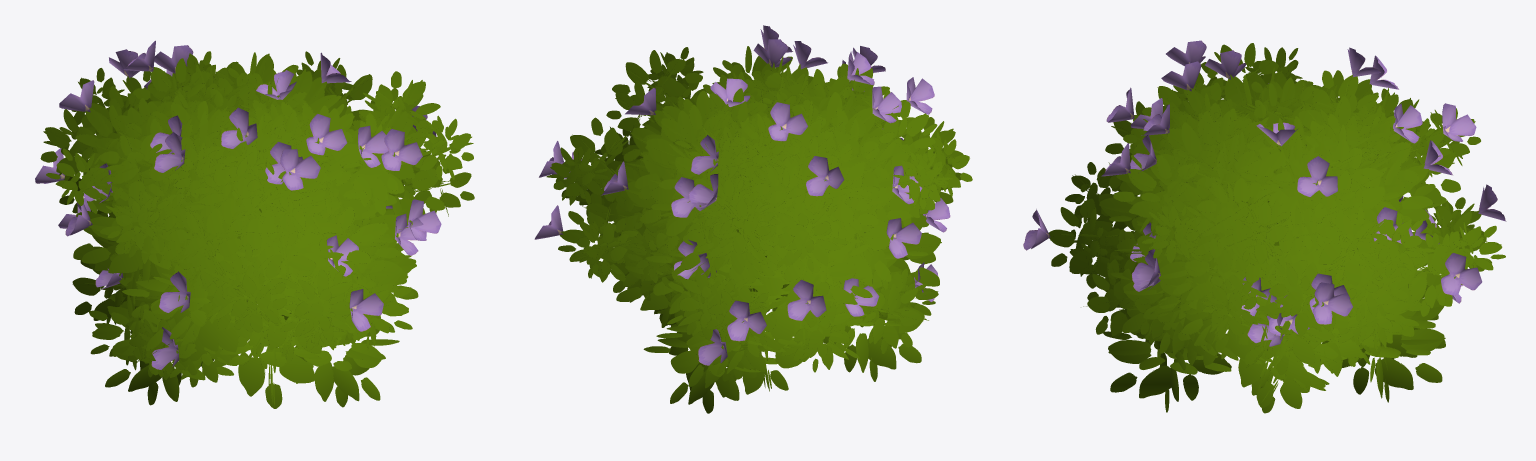
File: bush_common_flowers.glb
The picture shows the model from 3 angles, left to right: view 1: azimuth 30°, elevation 25°; view 2: azimuth 150°, elevation 25°; view 3: azimuth 270°, elevation 25°; orthographic projection. The views are drawn at different scales.
Visible parts, largest first — view 1: Bush_Common_Flowers; view 2: Bush_Common_Flowers; view 3: Bush_Common_Flowers.
Boxes of the visible parts, x1,y1,x2,y2 form: Bush_Common_Flowers: [35, 40, 474, 408]; Bush_Common_Flowers: [534, 25, 972, 413]; Bush_Common_Flowers: [1023, 40, 1506, 413].
Bounding box in the file's own units: 1.91 × 1.58 × 1.97.
Materials: 2 (2 with a texture image).
